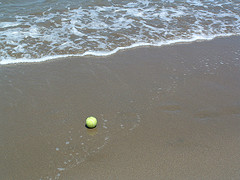tennis ball: (84, 116, 97, 128)
